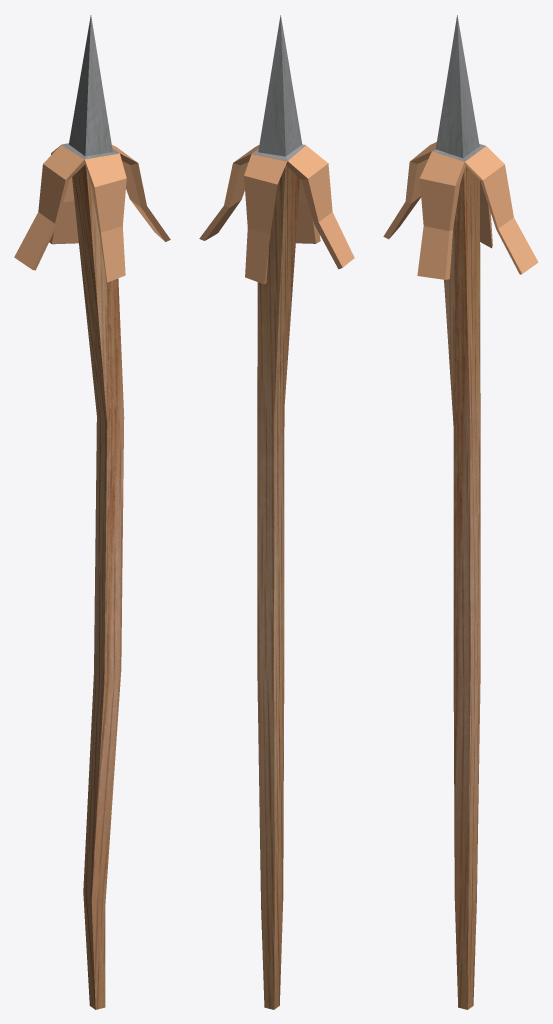
File: goblinSpear.FBX
3 views of the same model, side by side, from view 1: azimuth 30°, elevation 25°; view 2: azimuth 150°, elevation 25°; view 3: azimuth 330°, elevation 25° (orthographic).
Visible parts, largest first — view 1: goblinSpear; view 2: goblinSpear; view 3: goblinSpear.
Boxes of the visible parts, x1=… form: goblinSpear: x1=14, y1=15, x2=170, y2=1009; goblinSpear: x1=199, y1=15, x2=354, y2=1009; goblinSpear: x1=383, y1=15, x2=538, y2=1009.
Bounding box in the file's own units: 5.3 × 35.22 × 3.72.
